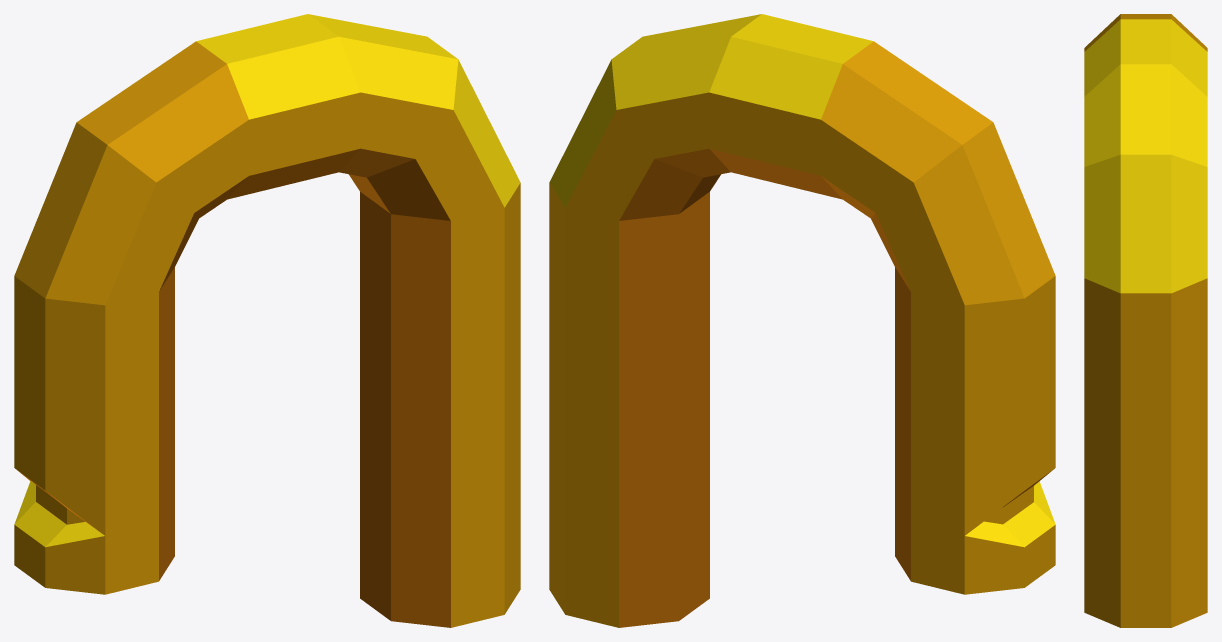
The model's file is Lock.fbx.
3 views of the same model, side by side, from view 1: azimuth 30°, elevation 25°; view 2: azimuth 150°, elevation 25°; view 3: azimuth 270°, elevation 25° (orthographic). The views are drawn at different scales.
Visible parts, largest first — view 1: Lock; view 2: Lock; view 3: Lock.
Part boxes in pixels (<box>): Lock: <box>14,14,520,627</box>; Lock: <box>549,14,1055,627</box>; Lock: <box>1084,14,1207,627</box>.
Size of the model in its own units: 68.75 by 82.54 by 18.75.
Materials: 1 (1 with a texture image).
